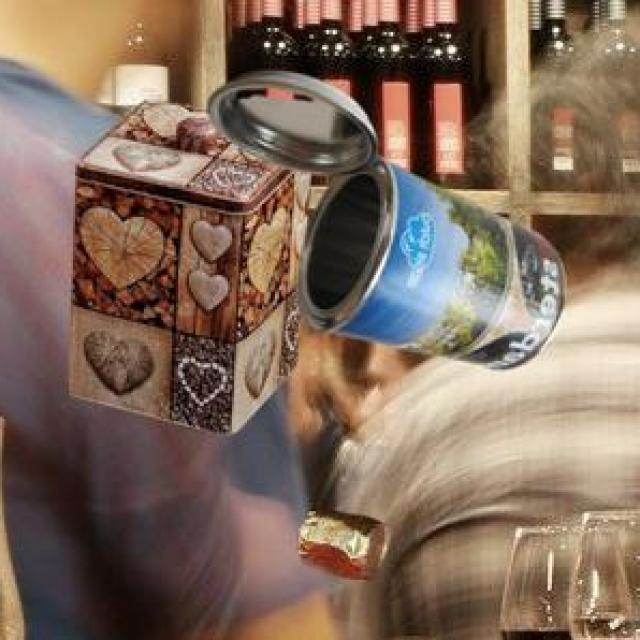logam: (214, 68, 568, 366), (72, 98, 315, 431), (302, 506, 394, 577)
